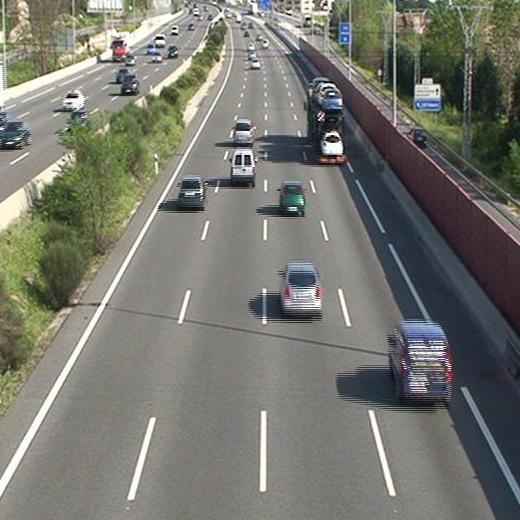car: (281, 263, 321, 312), (278, 182, 305, 212), (179, 177, 205, 207), (234, 119, 253, 144), (320, 135, 342, 156), (324, 91, 342, 111), (250, 58, 260, 69)
truck: (306, 83, 345, 162)
van: (392, 321, 450, 400), (231, 150, 255, 183)
